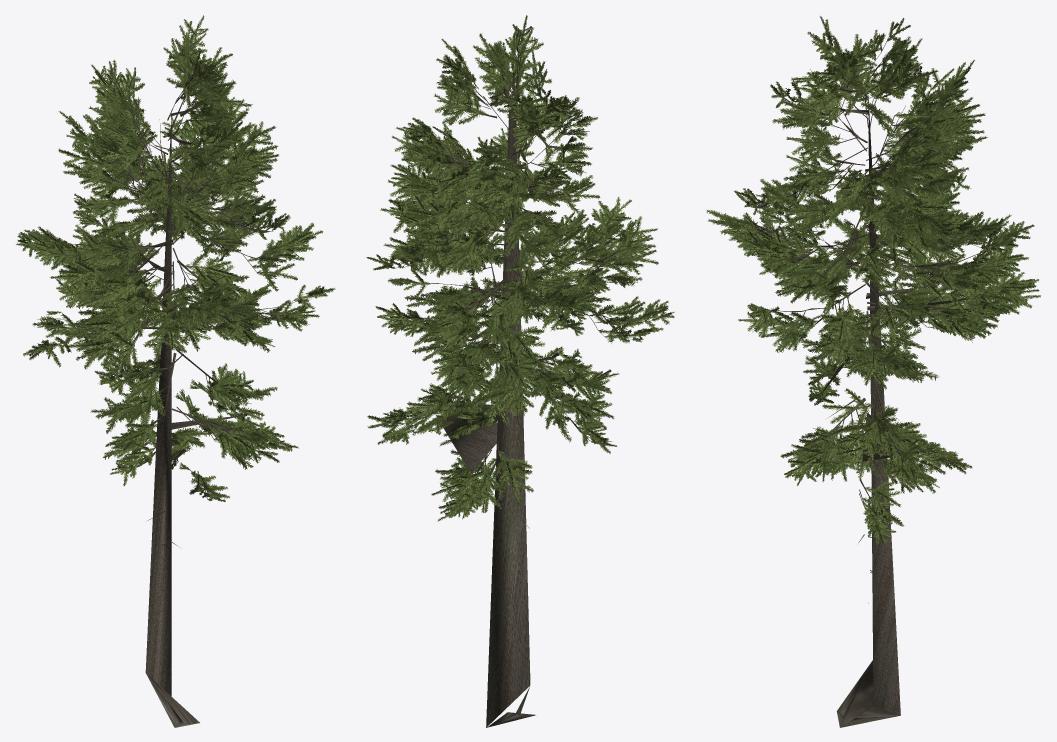
The model's file is fir_tree_01-b-lod1.glb.
The picture shows the model from 3 angles, left to right: view 1: azimuth 30°, elevation 25°; view 2: azimuth 150°, elevation 25°; view 3: azimuth 270°, elevation 25°; orthographic projection. The views are drawn at different scales.
Parts seen in each view (by area): view 1: fir_tree_01.b.lod1.foliage, fir_tree_01.b.lod1.bark; view 2: fir_tree_01.b.lod1.foliage, fir_tree_01.b.lod1.bark; view 3: fir_tree_01.b.lod1.foliage, fir_tree_01.b.lod1.bark.
Boxes of the visible parts, <box> form: fir_tree_01.b.lod1.foliage: <box>16,15,335,501</box>; fir_tree_01.b.lod1.bark: <box>51,47,304,727</box>; fir_tree_01.b.lod1.foliage: <box>366,15,674,521</box>; fir_tree_01.b.lod1.bark: <box>389,45,650,727</box>; fir_tree_01.b.lod1.foliage: <box>706,16,1040,547</box>; fir_tree_01.b.lod1.bark: <box>741,31,1012,727</box>.
Size of the model in its own units: 5.63 by 14.05 by 6.08.
2 materials, 2 textured.
